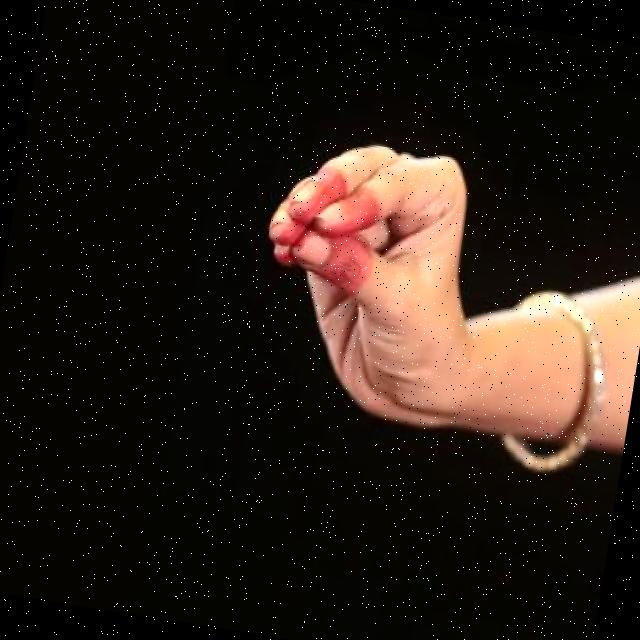Mukula: (200, 73, 514, 490)
